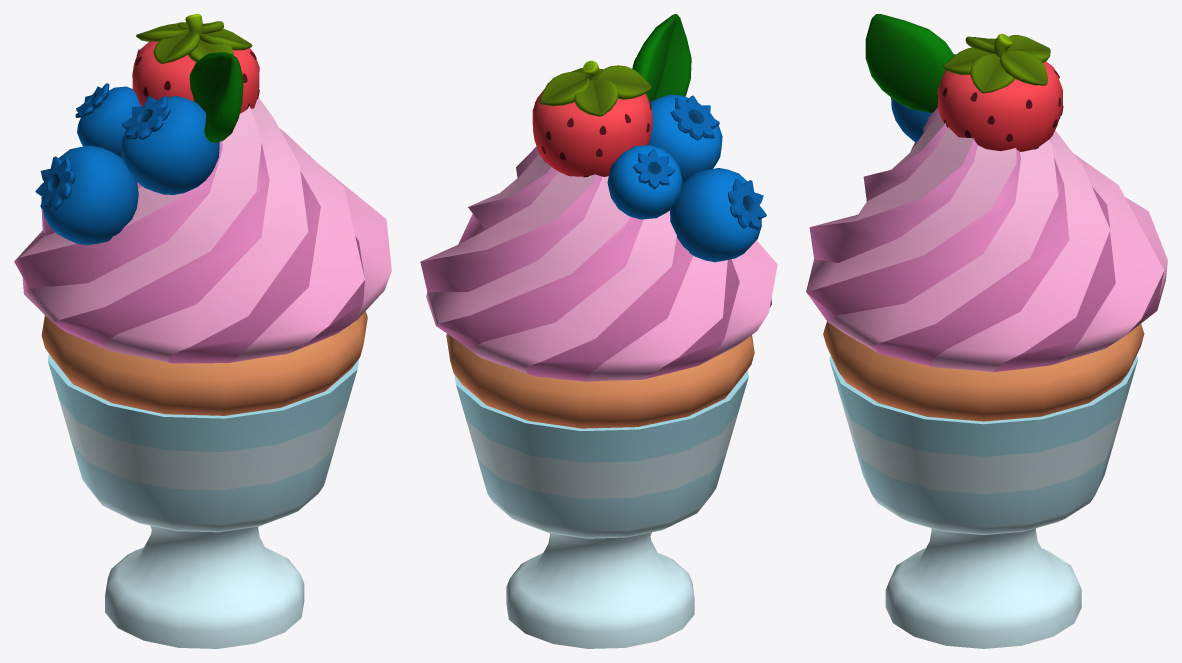
Rendered from Cupcake_Strawberry_V3_00.fbx.
3 renders of one model, left to right at view 1: azimuth 30°, elevation 25°; view 2: azimuth 150°, elevation 25°; view 3: azimuth 270°, elevation 25°, orthographic. The views are drawn at different scales.
Visible parts, largest first — view 1: Cupcake_Strawberry_V3_00; view 2: Cupcake_Strawberry_V3_00; view 3: Cupcake_Strawberry_V3_00.
Part boxes in pixels (<box>): Cupcake_Strawberry_V3_00: <box>14,14,391,648</box>; Cupcake_Strawberry_V3_00: <box>420,14,777,648</box>; Cupcake_Strawberry_V3_00: <box>806,14,1167,648</box>.
Bounding box in the file's own units: 37.27 × 64.87 × 36.6.
